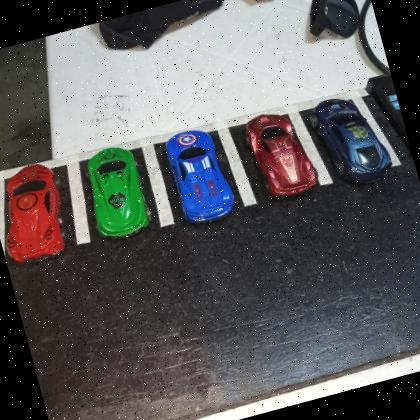Car: (306, 82, 398, 196), (158, 119, 240, 231), (74, 138, 157, 246), (0, 156, 79, 269), (238, 103, 322, 204)
